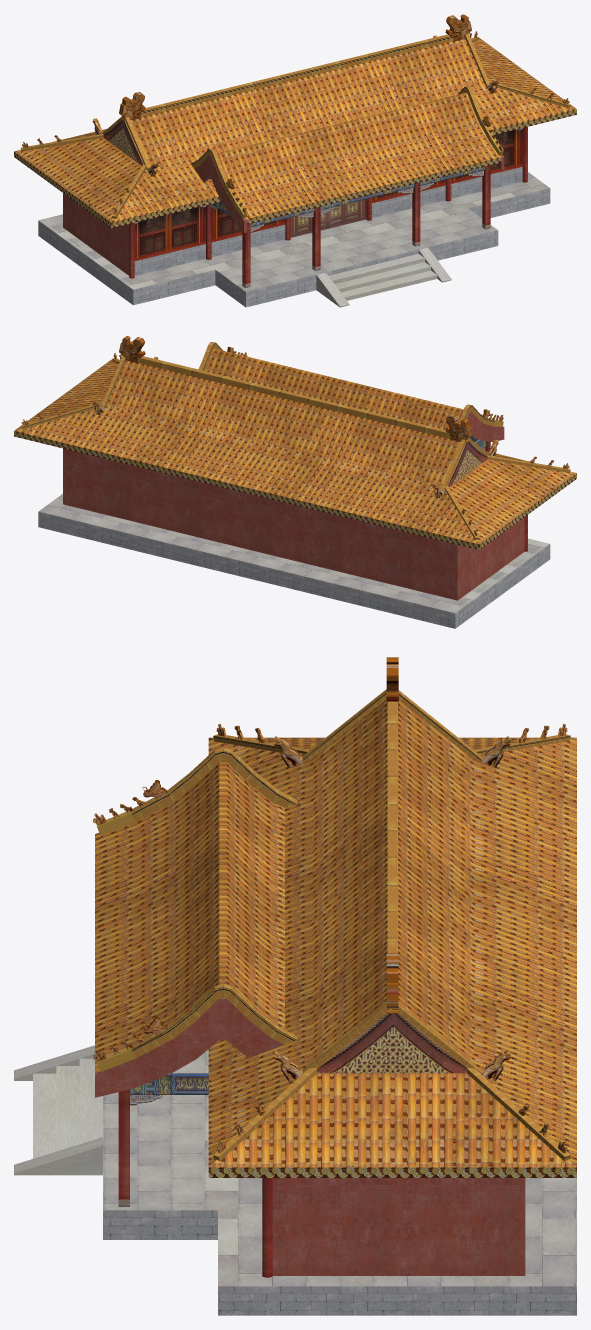
3 renders of one model, top to bottom at view 1: azimuth 30°, elevation 25°; view 2: azimuth 150°, elevation 25°; view 3: azimuth 270°, elevation 25°, orthographic. The views are drawn at different scales.
Parts seen in each view (by area): view 1: ZG, ZG_; view 2: ZG; view 3: ZG, ZG_.
Boxes of the visible parts, left/top/right/bottom form: ZG: left=14, top=14, right=576, bottom=307; ZG_: left=316, top=272, right=349, bottom=307; ZG: left=14, top=336, right=576, bottom=628; ZG: left=14, top=657, right=576, bottom=1315; ZG_: left=14, top=1045, right=94, bottom=1080.
Size of the model in its own units: 21.77 by 7.4 by 12.06.
20 materials, 20 textured.
